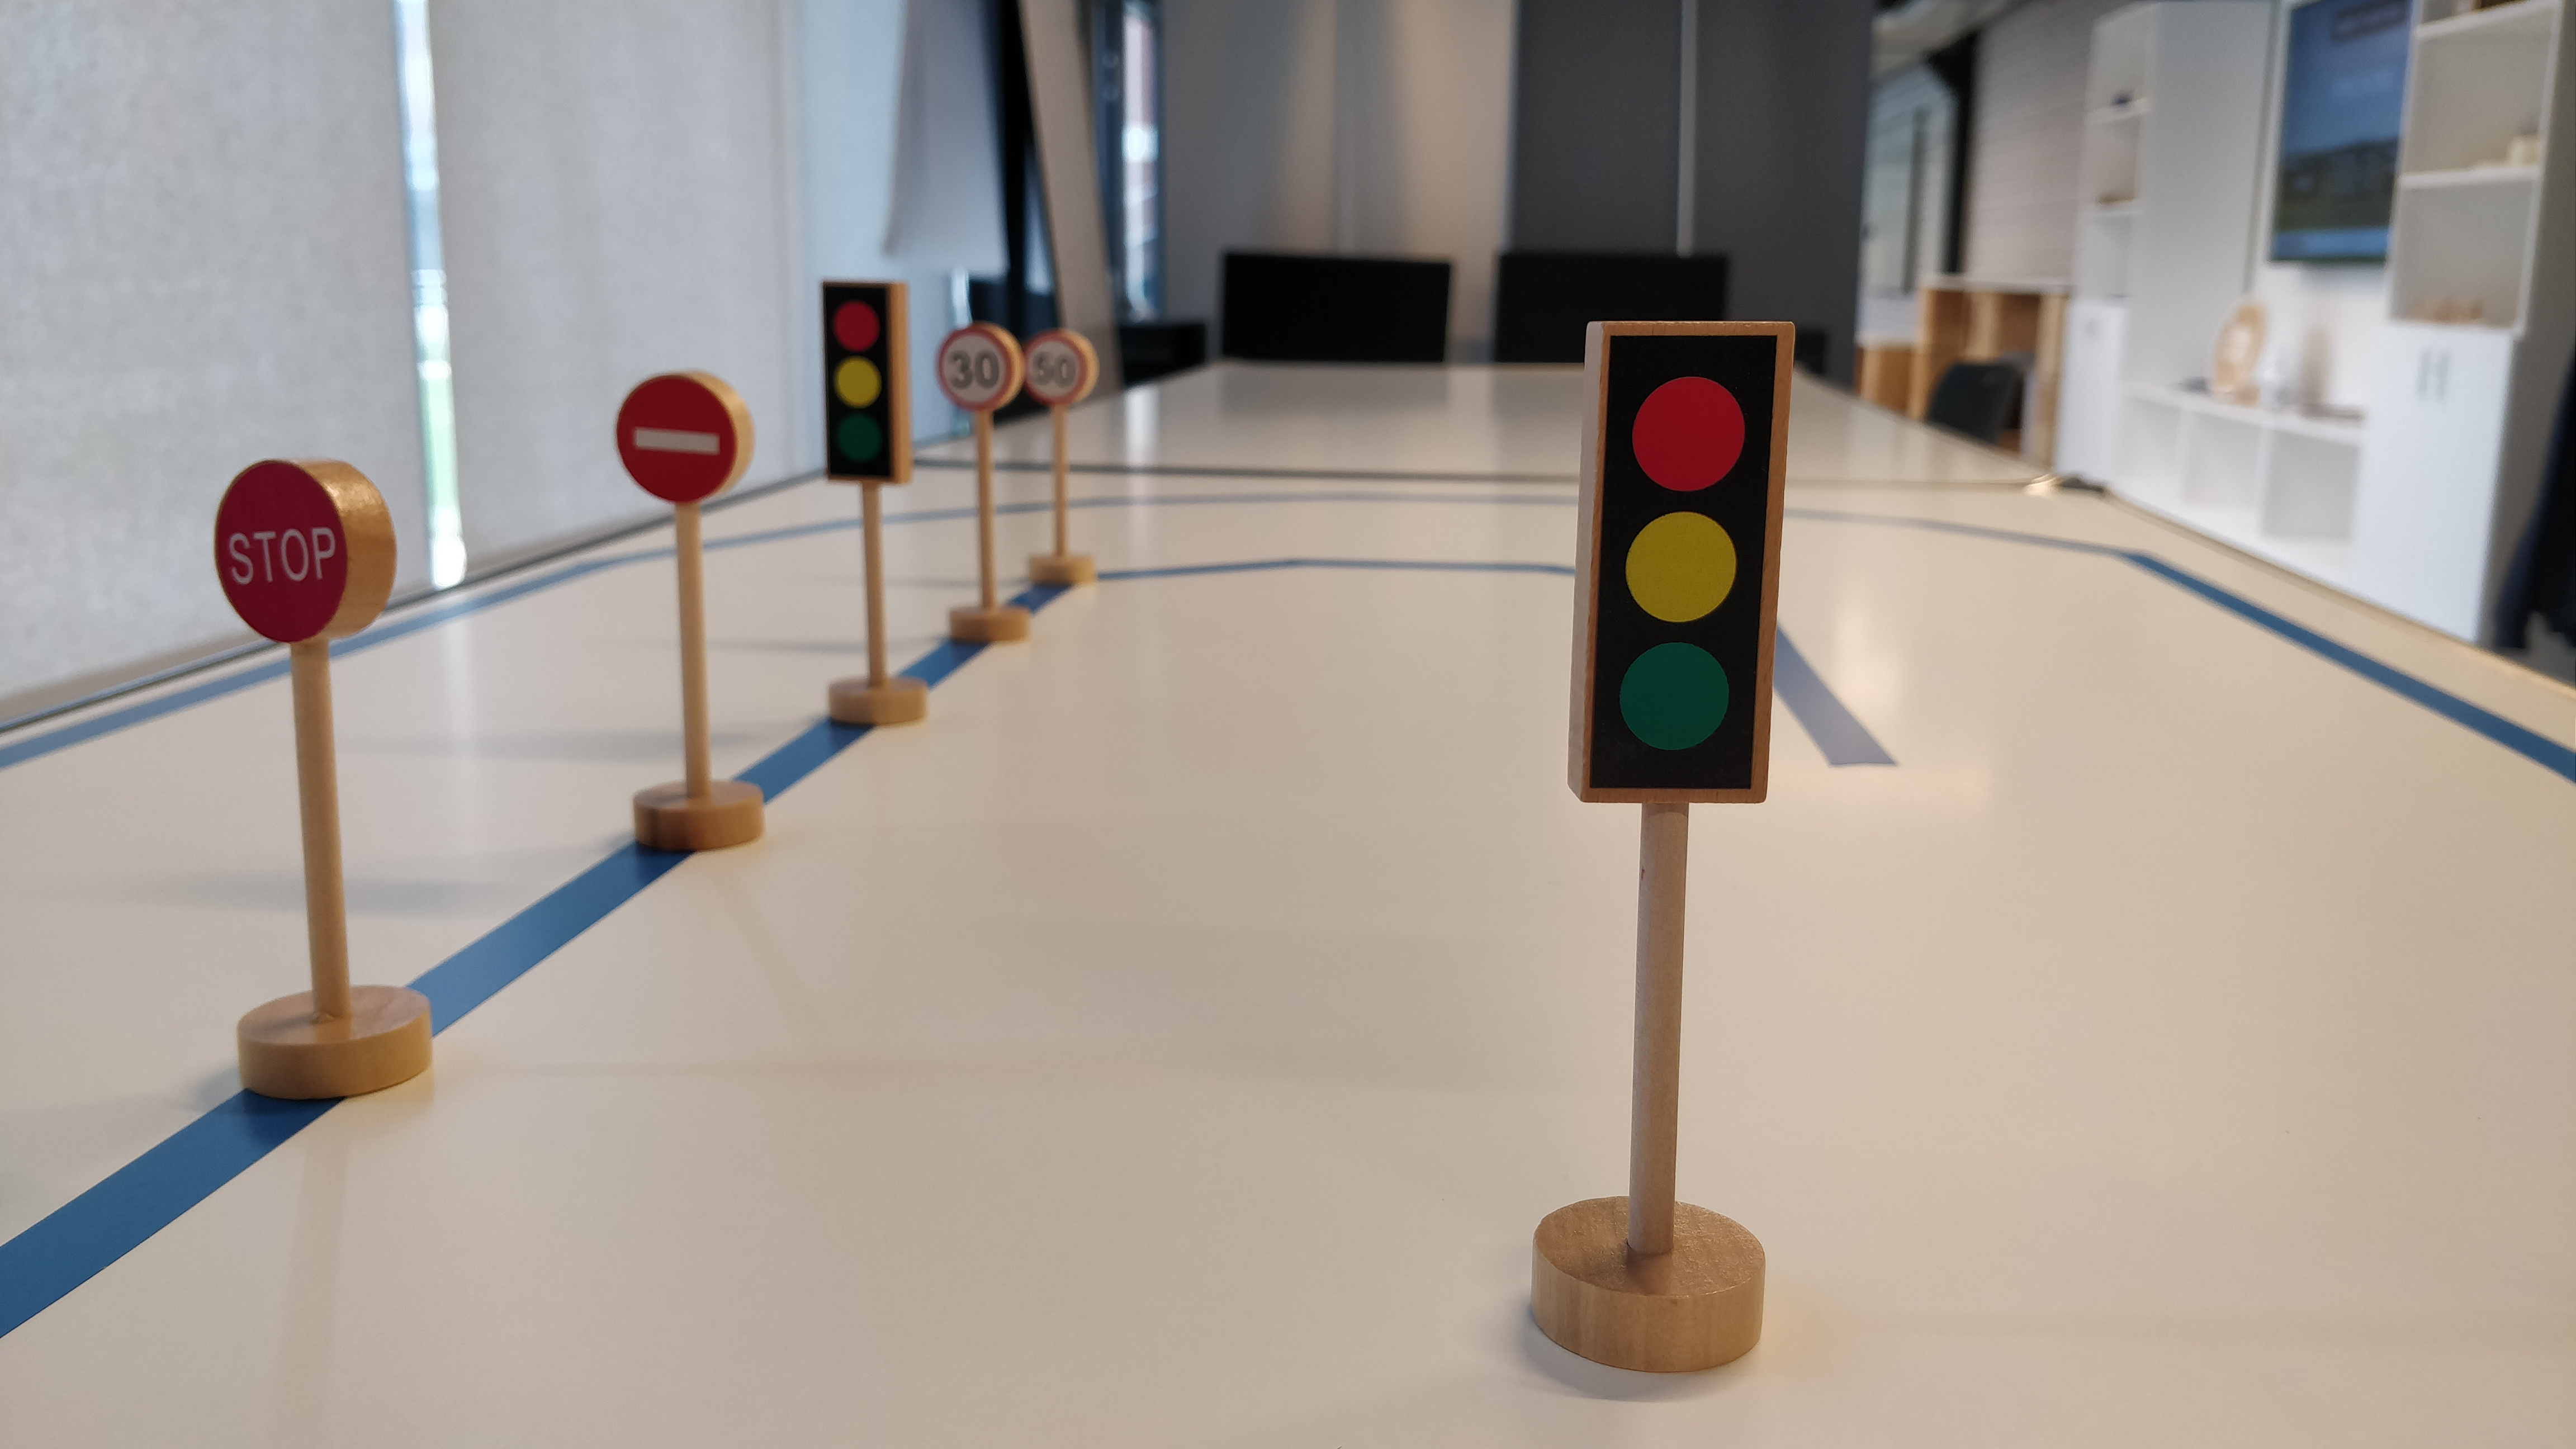Prohibition Sign: (616, 367, 757, 506)
Speed Limit 30: (936, 319, 1021, 415)
Speed Limit 50: (1022, 325, 1097, 411)
Stop Sign: (208, 453, 398, 647)
Traffic Light: (1561, 311, 1800, 805), (816, 271, 915, 489)
